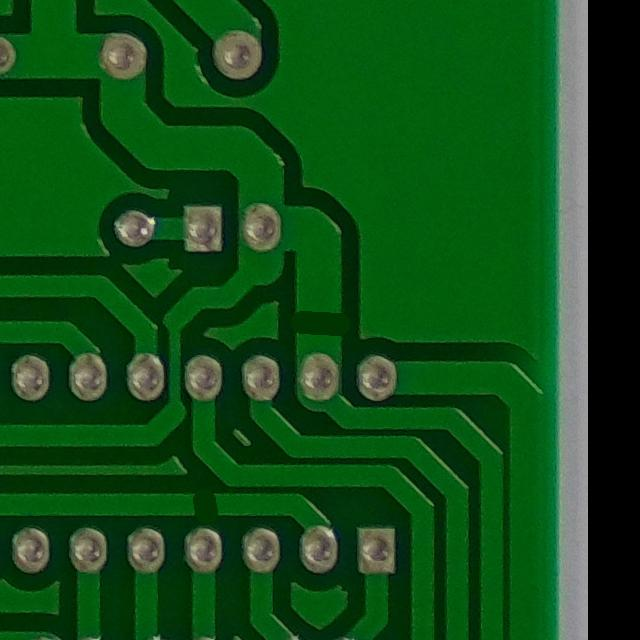open_circuit: (289, 294, 352, 346)
